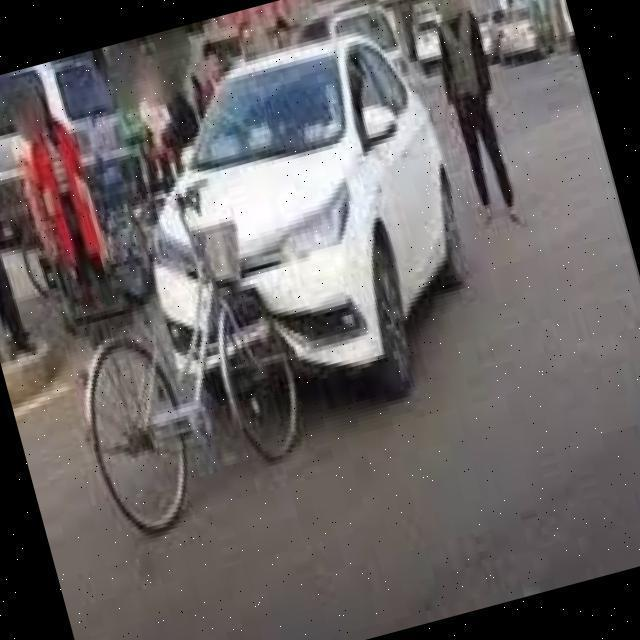accident: (28, 143, 408, 534)
